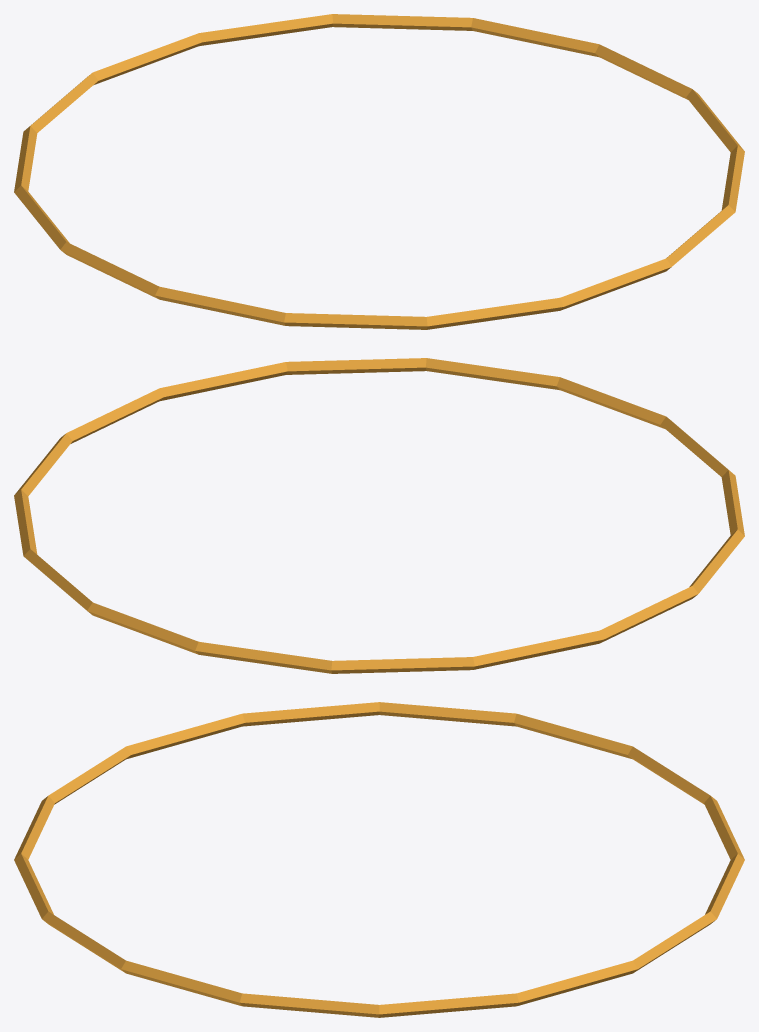
Rendered from Fence.glb.
The picture shows the model from 3 angles, top to bottom: view 1: azimuth 30°, elevation 25°; view 2: azimuth 150°, elevation 25°; view 3: azimuth 270°, elevation 25°; orthographic projection.
Visible parts, largest first — view 1: Fence; view 2: Fence; view 3: Fence.
Part boxes in pixels (x1,y1,x2,y2): Fence: (14,14,744,329); Fence: (14,358,744,673); Fence: (14,702,744,1017).
Size of the model in its own units: 102 by 2 by 102.
